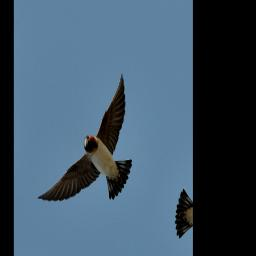Swallow: (36, 49, 154, 241)
